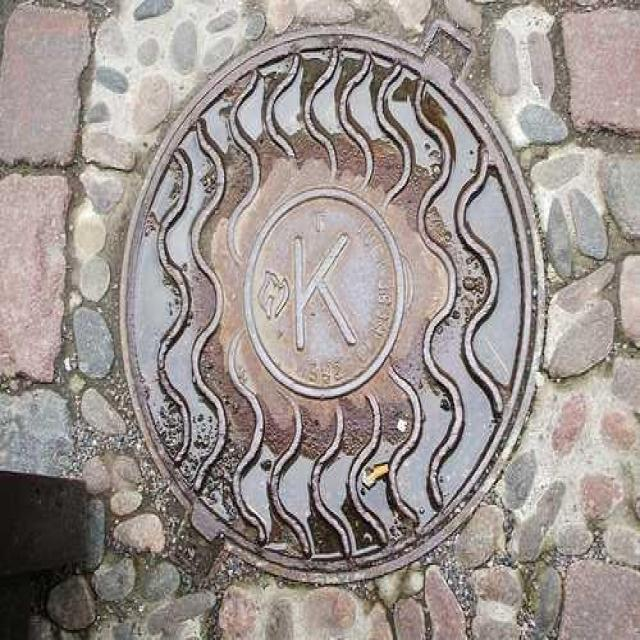manhole: (122, 30, 544, 581)
